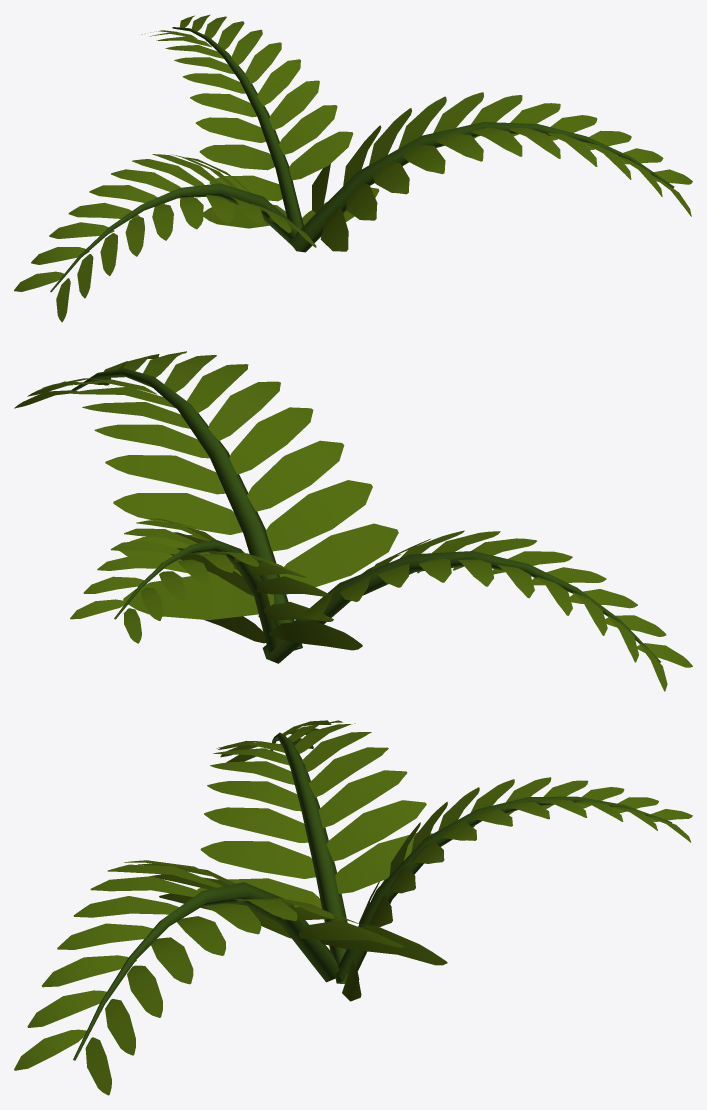
Rendered from SM_Fan_Plant_A.fbx.
3 views of the same model, one above another, from view 1: azimuth 30°, elevation 25°; view 2: azimuth 150°, elevation 25°; view 3: azimuth 270°, elevation 25° (orthographic). The views are drawn at different scales.
Parts seen in each view (by area): view 1: SM_Fan_Plant_A.001; view 2: SM_Fan_Plant_A.001; view 3: SM_Fan_Plant_A.001.
Part boxes in pixels (x1=…): SM_Fan_Plant_A.001: x1=14, y1=14, x2=692, y2=322; SM_Fan_Plant_A.001: x1=14, y1=351, x2=692, y2=691; SM_Fan_Plant_A.001: x1=14, y1=720, x2=692, y2=1095.
Bounding box in the file's own units: 394 × 302 × 95.58.
